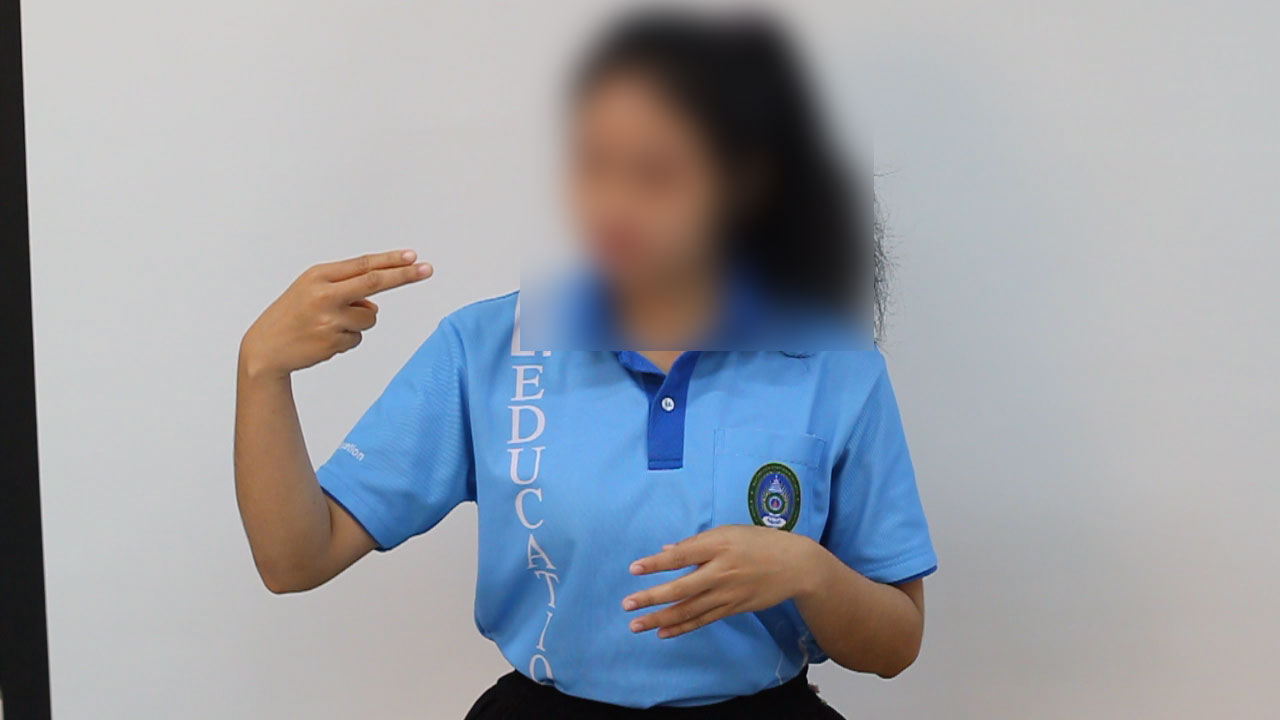hor: (199, 237, 448, 380)
